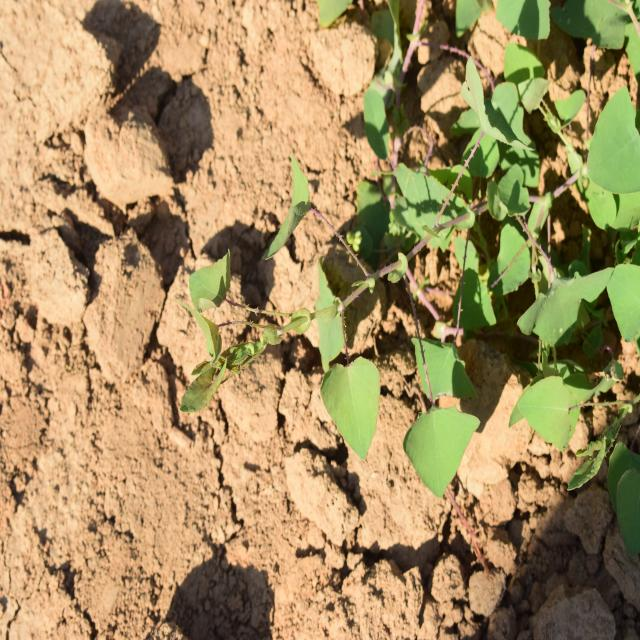Asiatic_Smartweed: (177, 174, 478, 486)
